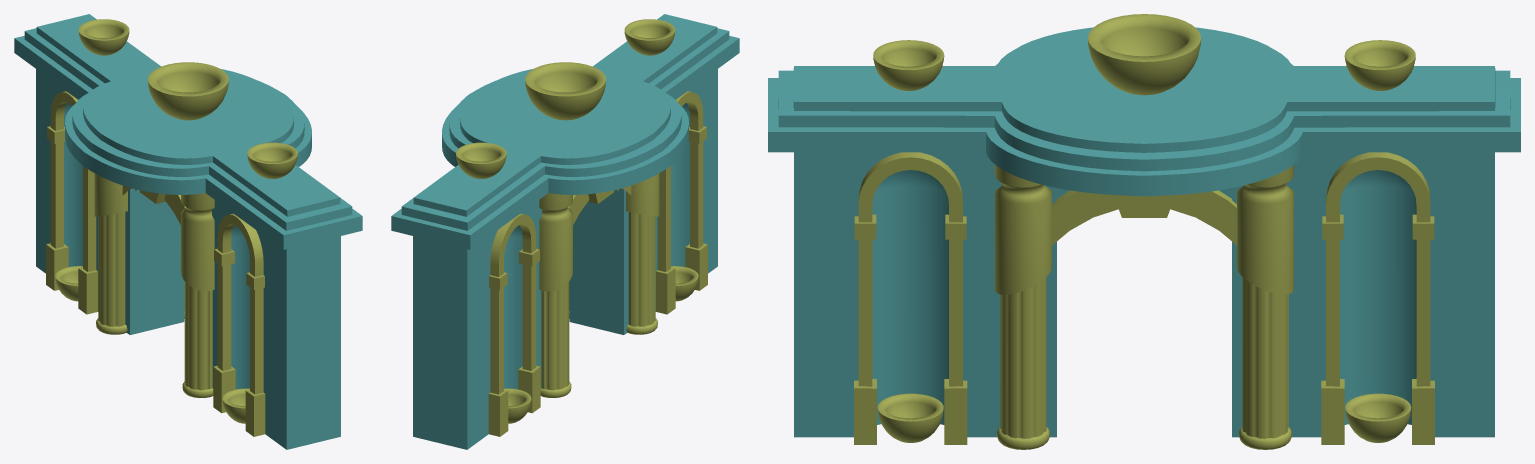
Rendered from SM_Building_Gate.fbx.
3 renders of one model, left to right at view 1: azimuth 30°, elevation 25°; view 2: azimuth 150°, elevation 25°; view 3: azimuth 270°, elevation 25°, orthographic. The views are drawn at different scales.
Parts seen in each view (by area): view 1: Gate_03_Low; view 2: Gate_03_Low; view 3: Gate_03_Low.
Boxes of the visible parts, x1,y1,x2,y2 form: Gate_03_Low: (14, 14, 362, 449); Gate_03_Low: (391, 14, 739, 449); Gate_03_Low: (768, 14, 1520, 449).
Size of the model in its own units: 574 by 721 by 1288.
